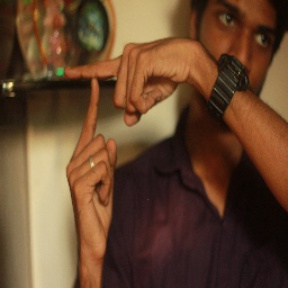T: (57, 41, 136, 165)
